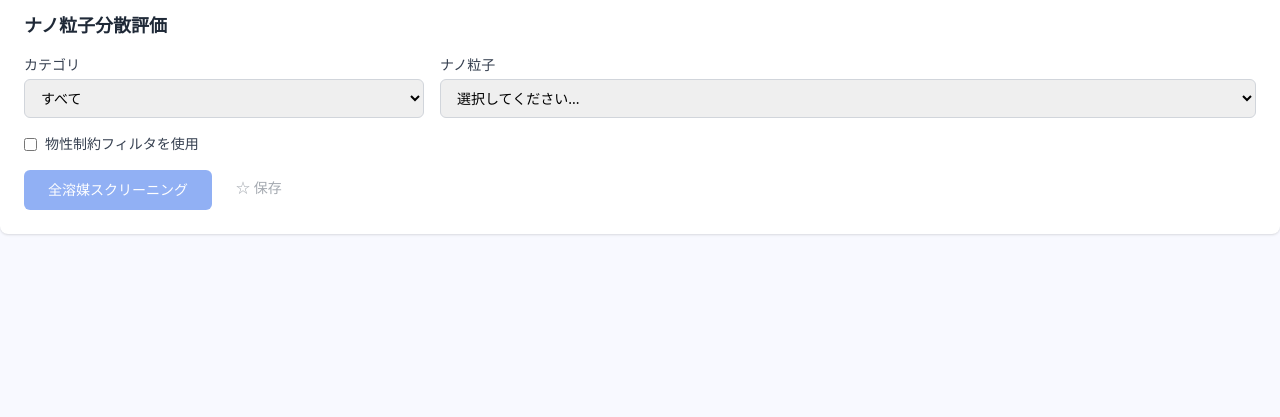
Test: NanoDispersionView › エラー時にエラーメッセージ表示
Select "SWCNT — カーボン系" in the 2nd dropdown: {"x": 848, "y": 98} [440,79,1256,118]
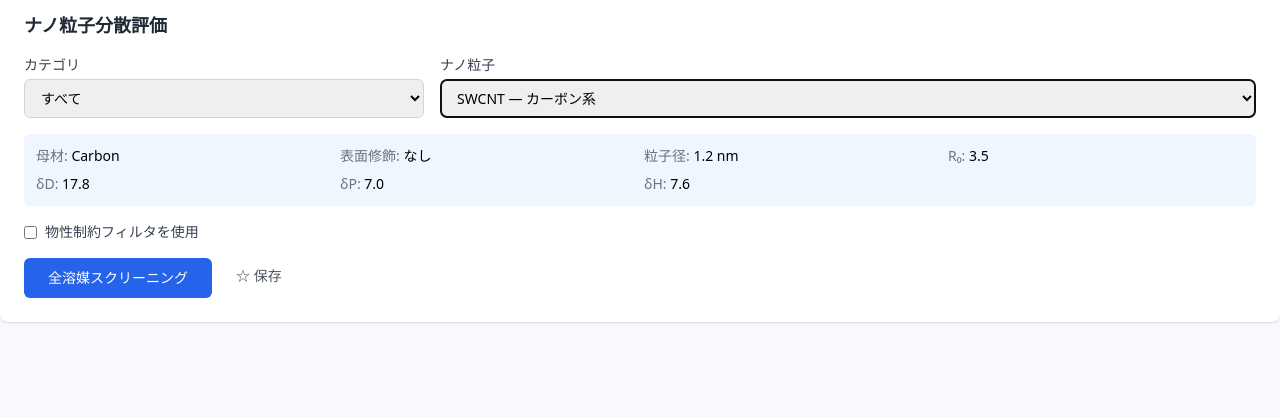
Click the button "全溶媒スクリーニング": {"x": 118, "y": 278} [24,258,212,298]
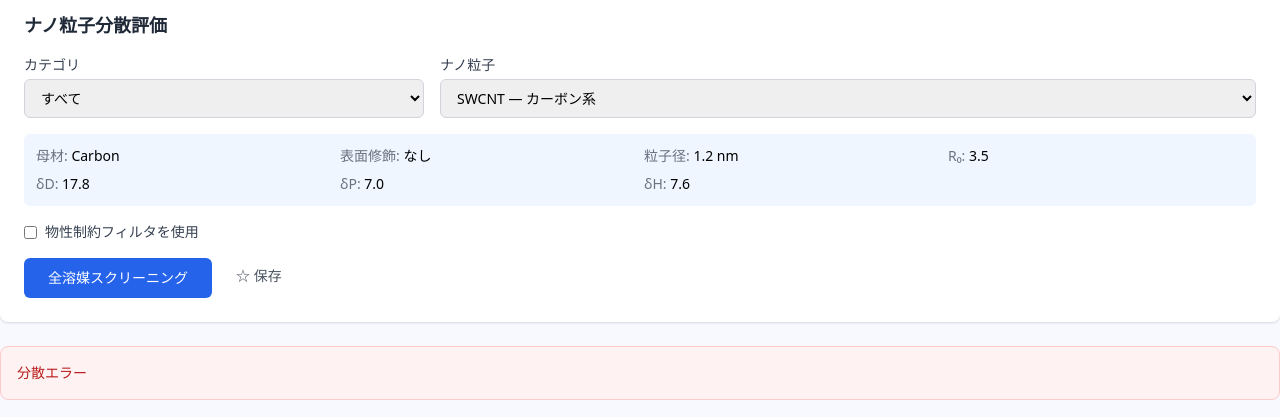
Expected: the text "分散エラー" is shown, [0,346,1279,400]
